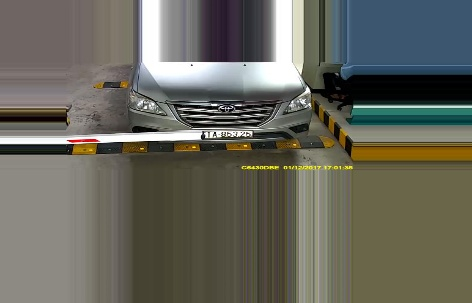plate: (198, 128, 254, 143)
